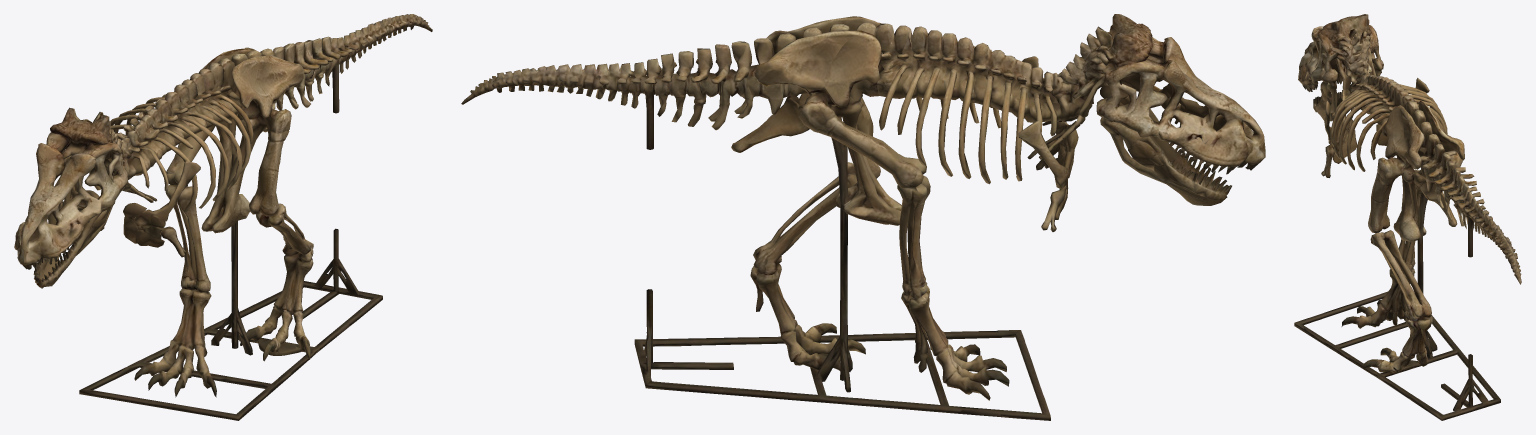
Rendered from t_rex_skeleton.glb.
The picture shows the model from 3 angles, left to right: view 1: azimuth 30°, elevation 25°; view 2: azimuth 150°, elevation 25°; view 3: azimuth 270°, elevation 25°; orthographic projection. The views are drawn at different scales.
Parts seen in each view (by area): view 1: tripo_node_4062b820-b007-435b-93a5-7c38716c3e87; view 2: tripo_node_4062b820-b007-435b-93a5-7c38716c3e87; view 3: tripo_node_4062b820-b007-435b-93a5-7c38716c3e87.
Boxes of the visible parts, <box> form: tripo_node_4062b820-b007-435b-93a5-7c38716c3e87: <box>14,14,432,420</box>; tripo_node_4062b820-b007-435b-93a5-7c38716c3e87: <box>461,14,1265,420</box>; tripo_node_4062b820-b007-435b-93a5-7c38716c3e87: <box>1294,14,1521,420</box>.
Bounding box in the file's own units: 0.9857 × 0.5434 × 0.4293.
Materials: 1 (1 with a texture image).
